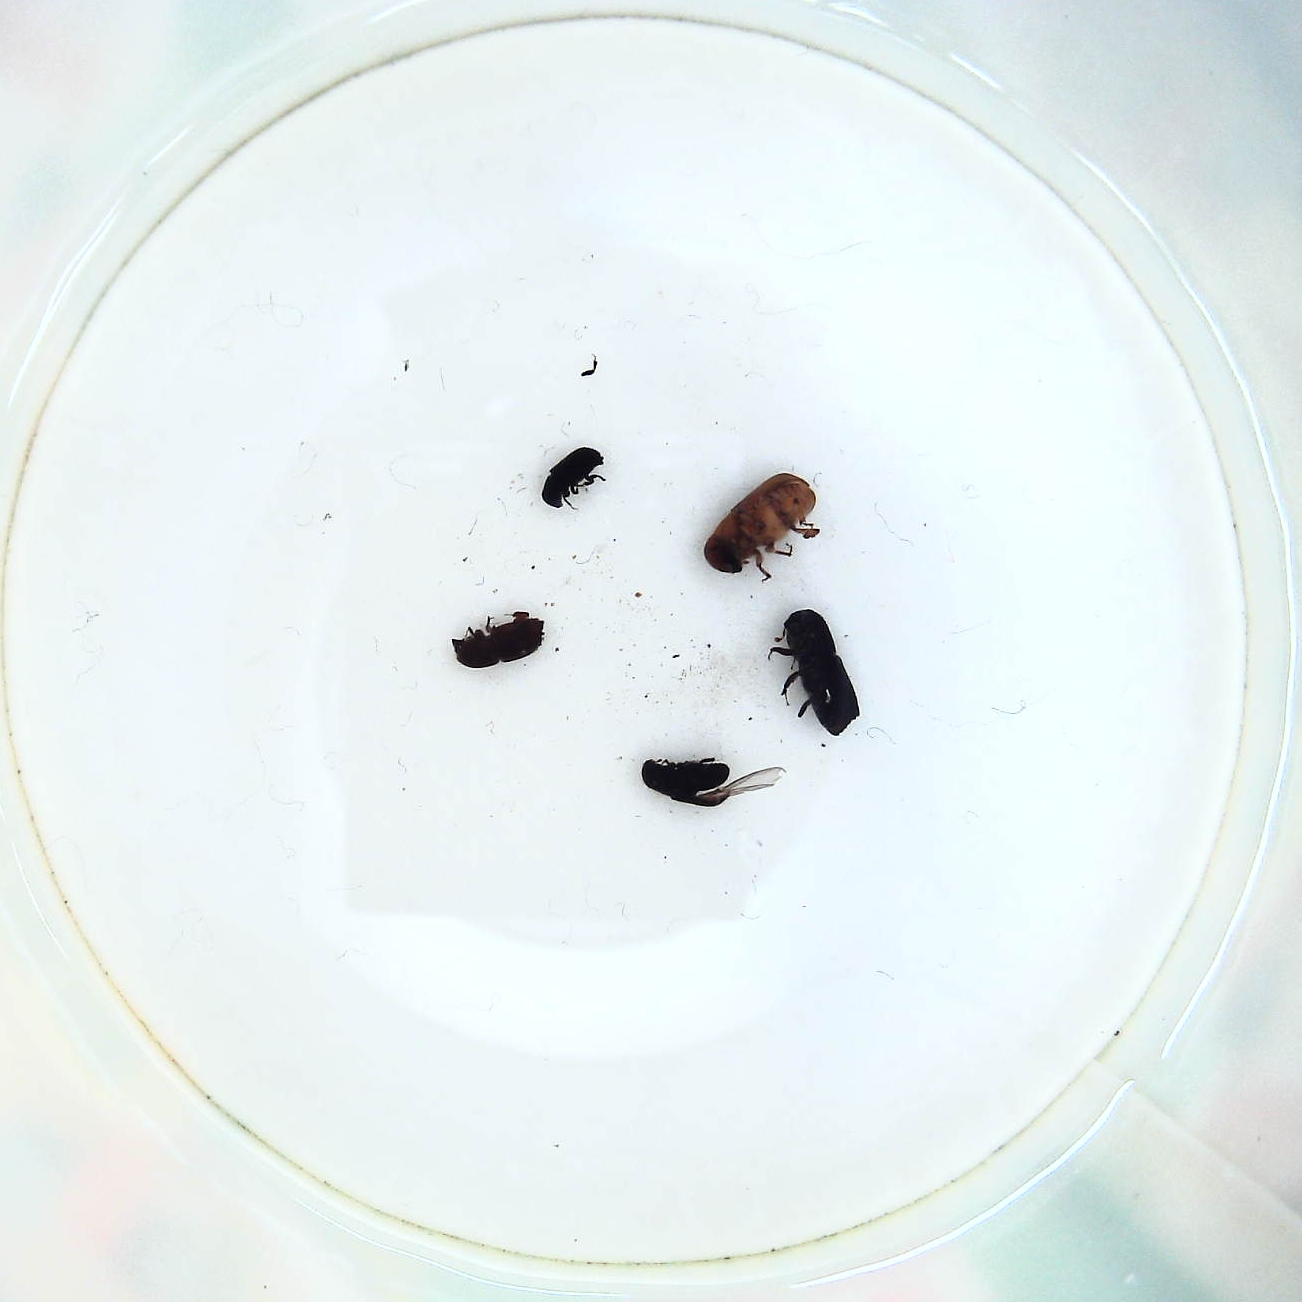Boerner: (765, 603, 862, 742)
Leconte: (702, 469, 823, 583)
armandi: (638, 754, 787, 813)
coleoptera: (537, 442, 609, 513)
linnaeus: (444, 604, 553, 671)
